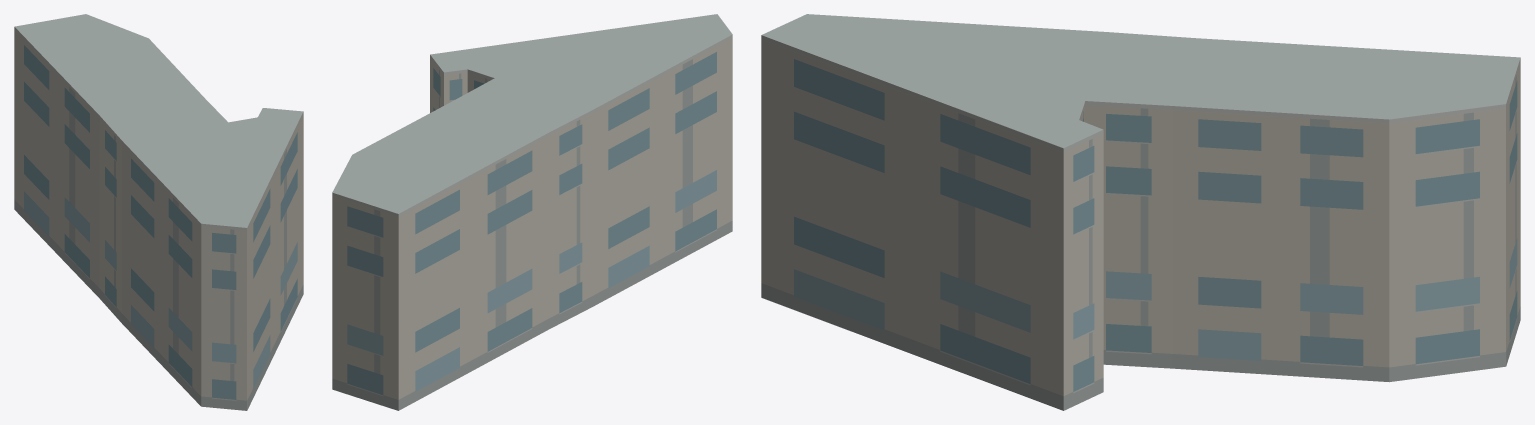
File: survey-upis-32469989.glb
The picture shows the model from 3 angles, left to right: view 1: azimuth 30°, elevation 25°; view 2: azimuth 150°, elevation 25°; view 3: azimuth 270°, elevation 25°; orthographic projection. The views are drawn at different scales.
Parts seen in each view (by area): view 1: survey-upis-32469989.tmp; view 2: survey-upis-32469989.tmp; view 3: survey-upis-32469989.tmp.
Boxes of the visible parts, x1,y1,x2,y2 form: survey-upis-32469989.tmp: [14, 14, 303, 410]; survey-upis-32469989.tmp: [332, 14, 732, 410]; survey-upis-32469989.tmp: [761, 14, 1520, 410].
Bounding box in the file's own units: 16.74 × 15.25 × 39.97.
